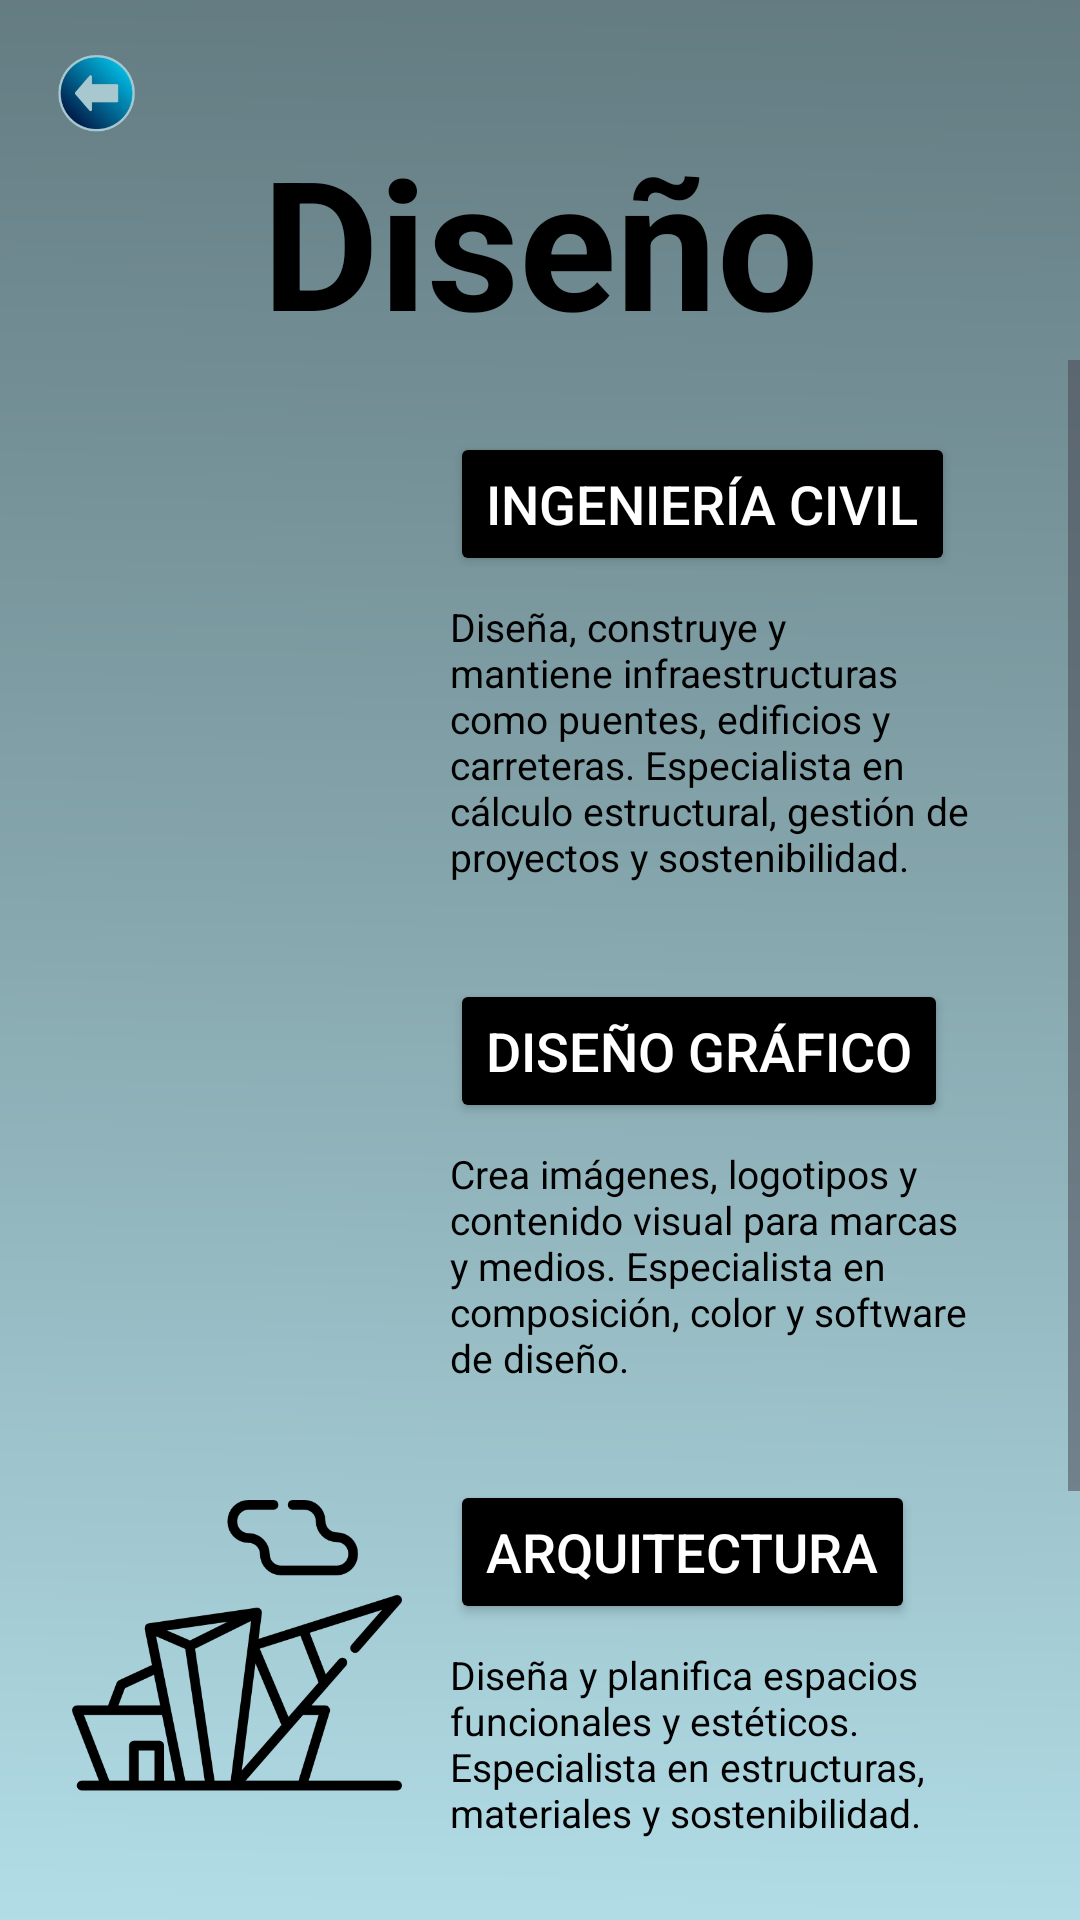

Screen size 1080*1920. Icon name, then its box in pixels as [x1, y1, x2, y2]:
arquetictura: [72, 1500, 402, 1791]
retroceso: [58, 55, 135, 131]
